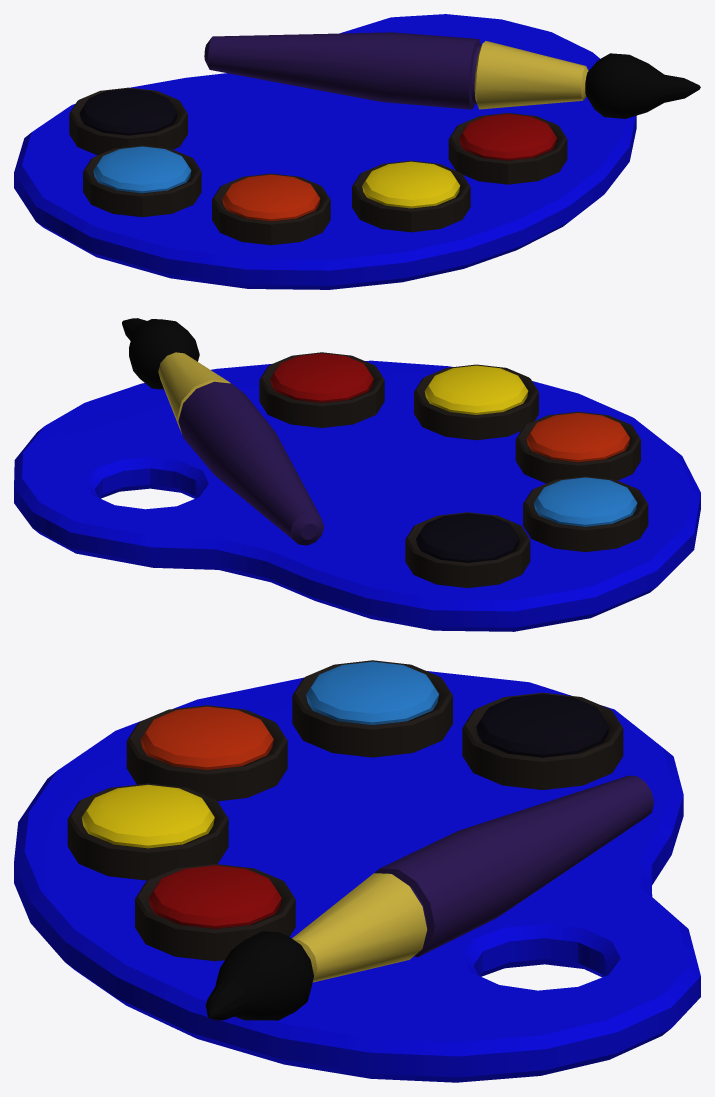
The model's file is Palette.FBX.
3 views of the same model, one above another, from view 1: azimuth 30°, elevation 25°; view 2: azimuth 150°, elevation 25°; view 3: azimuth 270°, elevation 25° (orthographic). The views are drawn at different scales.
Parts seen in each view (by area): view 1: Palette; view 2: Palette; view 3: Palette.
Boxes of the visible parts, x1=… form: Palette: x1=14, y1=14, x2=700, y2=289; Palette: x1=14, y1=318, x2=700, y2=631; Palette: x1=14, y1=660, x2=700, y2=1082.
Bounding box in the file's own units: 1026 × 769 × 150.
